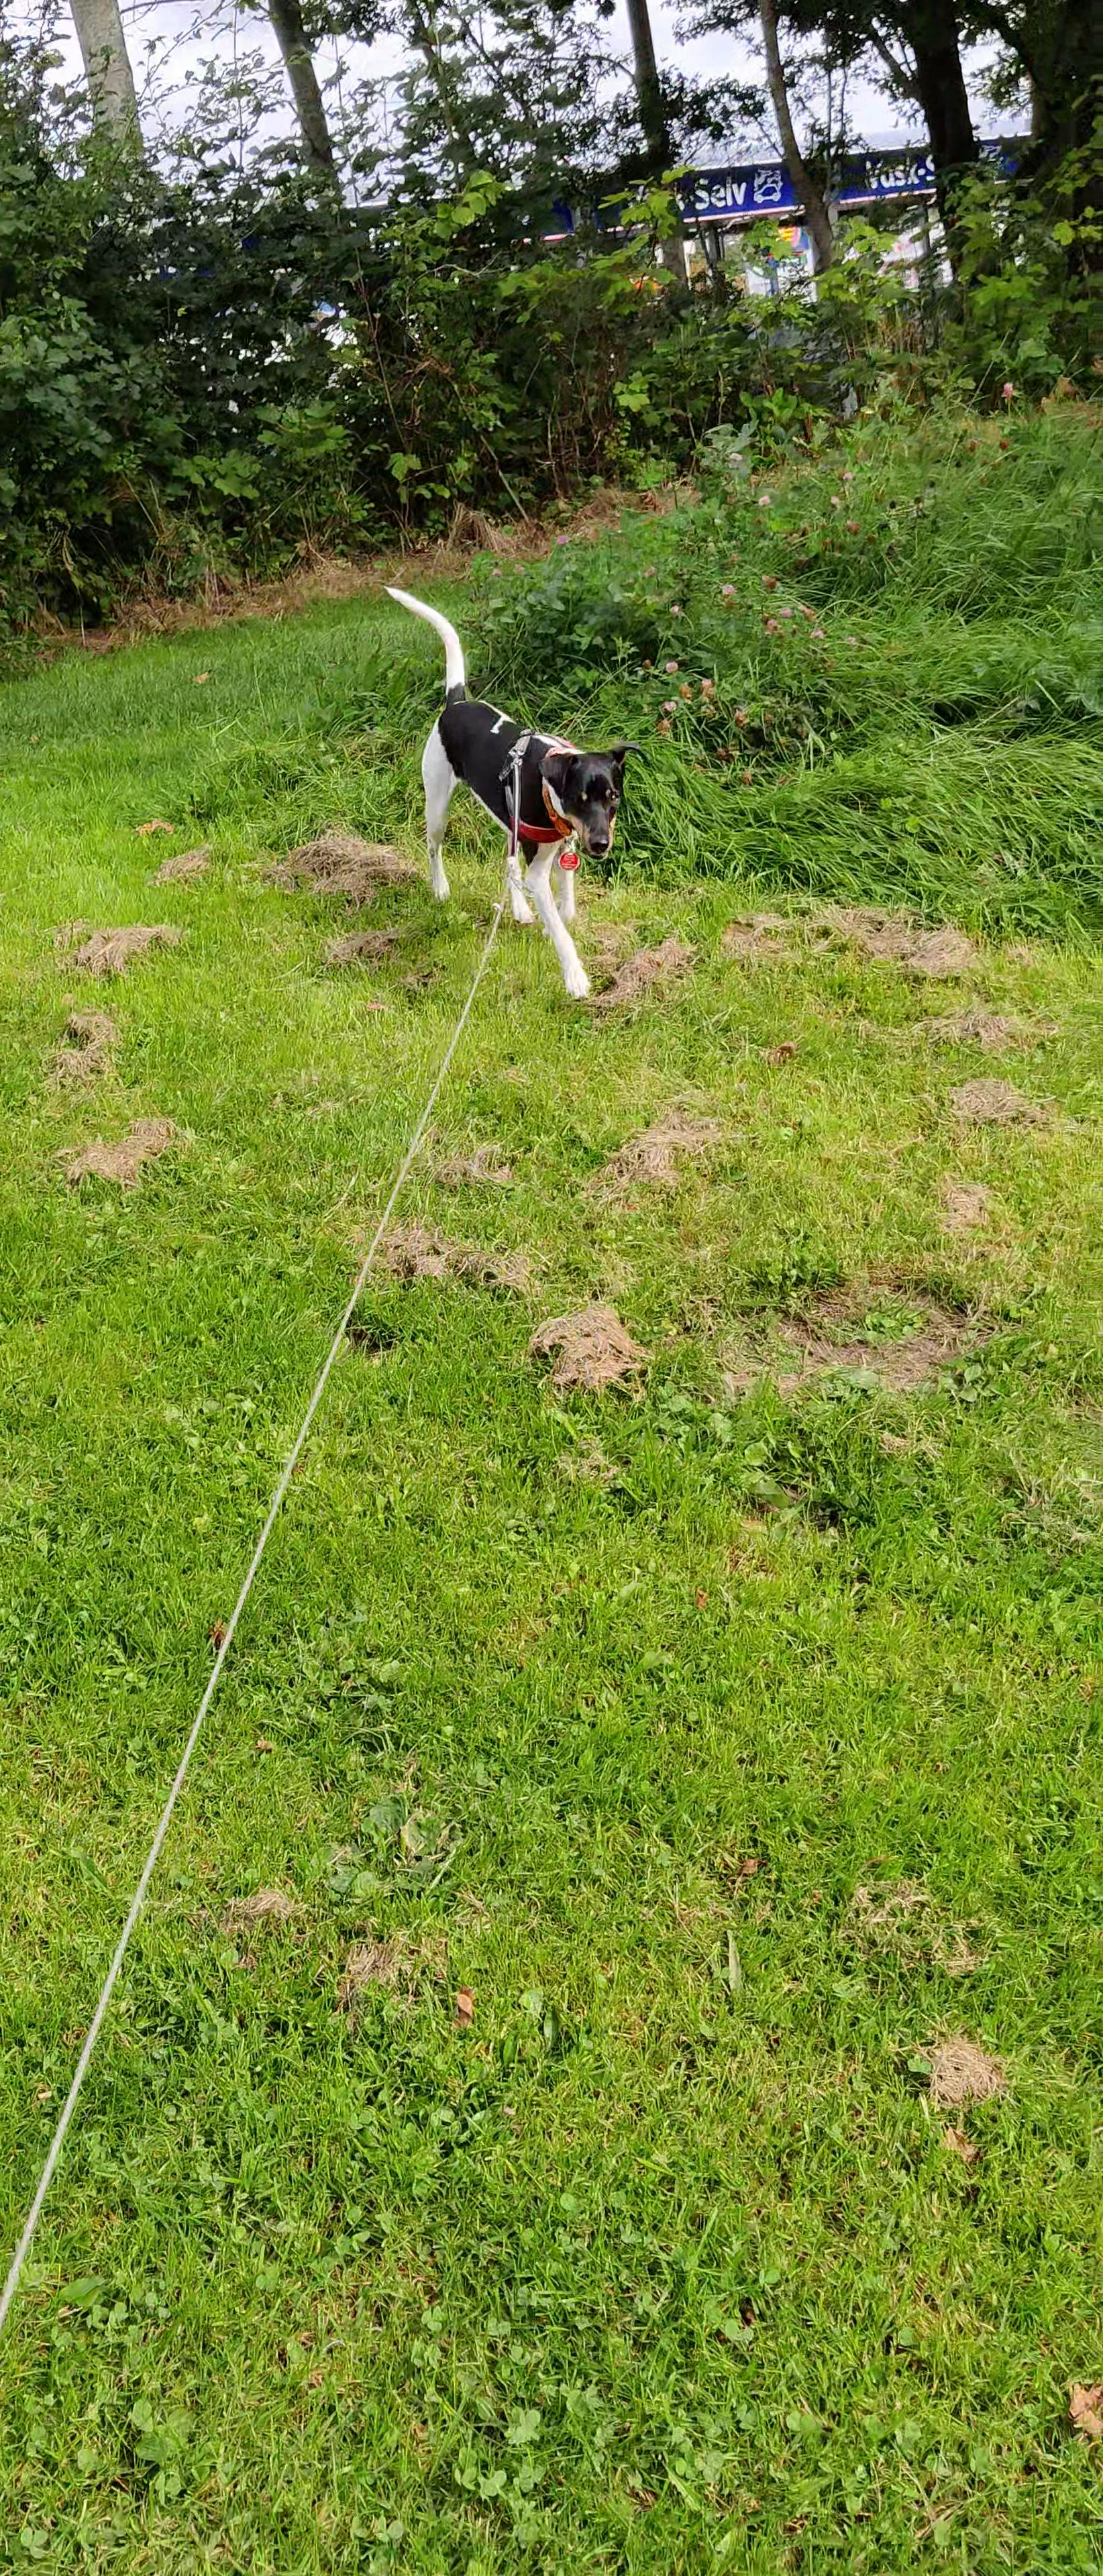Dog: (373, 577, 658, 1005)
